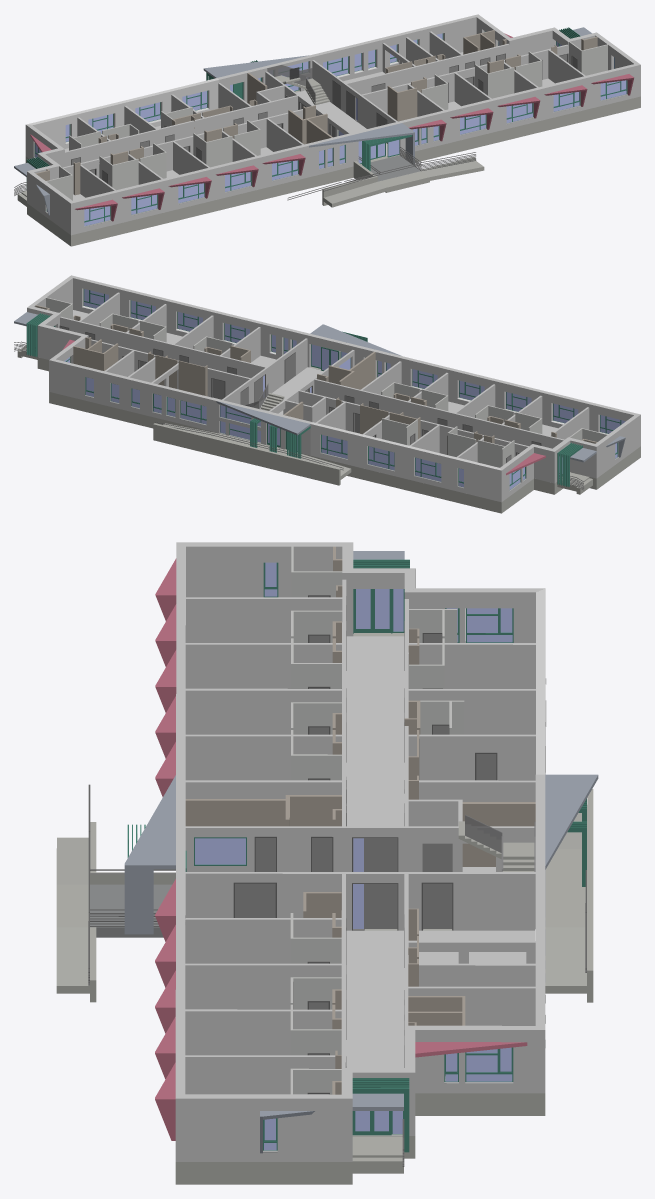
File: ground_o2.glb
3 renders of one model, top to bottom at view 1: azimuth 30°, elevation 25°; view 2: azimuth 150°, elevation 25°; view 3: azimuth 270°, elevation 25°, orthographic. The views are drawn at different scales.
Parts seen in each view (by area): view 1: IfcSlab/ARPP-01, IfcRamp/ARKATUS - 001, IfcWallStandardCase/ARSS-04, IfcWindow/ARA, IfcWallStandardCase/ARSS-02, IfcBeam/ARTALA - 001, IfcWallStandardCase/ARVS-01.011, IfcRoof/ARKATUS - 002.001, IfcSlab/ARPÕRAND - 013, IfcRailing/Väliskäsipuu, IfcDoor/ARUKS - 012, IfcSlab/ARPÕRAND - 001 (+1 smaller); view 2: IfcSlab/ARPP-01, IfcRamp/ARKATUS - 001, IfcWindow/ARA, IfcWallStandardCase/ARSS-02, IfcWallStandardCase/ARSS-04, IfcWallStandardCase/ARVS-01.011, IfcBeam/ARTALA - 001, IfcSlab/ARPÕRAND - 013, IfcDoor/ARUKS - 012, IfcRailing/Väliskäsipuu; view 3: IfcSlab/ARPP-01, IfcRamp/ARKATUS - 001, IfcWallStandardCase/ARSS-04, IfcWallStandardCase/ARSS-02, IfcDoor/ARUKS - 012, IfcSlab/ARPÕRAND - 013, IfcWindow/ARA, IfcRoof/ARKATUS - 002.001, IfcBeam/ARTALA - 001, IfcRailing/Väliskäsipuu, IfcSlab/ARPÕRAND - 001, IfcWallStandardCase/ARVS-01.011 (+1 smaller).
Boxes of the visible parts, <box> form: IfcSlab/ARPP-01: <box>25,14,640,235</box>; IfcRamp/ARKATUS - 001: <box>17,75,640,246</box>; IfcWallStandardCase/ARSS-04: <box>46,41,607,200</box>; IfcWindow/ARA: <box>33,33,627,227</box>; IfcWallStandardCase/ARSS-02: <box>35,30,597,195</box>; IfcBeam/ARTALA - 001: <box>26,27,627,222</box>; IfcWallStandardCase/ARVS-01.011: <box>26,78,219,148</box>; IfcRoof/ARKATUS - 002.001: <box>30,33,634,221</box>; IfcSlab/ARPÕRAND - 013: <box>14,27,591,215</box>; IfcRailing/Väliskäsipuu: <box>14,53,577,200</box>; IfcDoor/ARUKS - 012: <box>71,54,576,183</box>; IfcSlab/ARPÕRAND - 001: <box>370,155,420,181</box>; IfcSlab/ARPP-01: <box>27,275,640,501</box>; IfcRamp/ARKATUS - 001: <box>17,345,640,513</box>; IfcWindow/ARA: <box>64,289,625,491</box>; IfcWallStandardCase/ARSS-02: <box>35,305,597,443</box>; IfcWallStandardCase/ARSS-04: <box>46,297,607,467</box>; IfcWallStandardCase/ARVS-01.011: <box>310,422,501,502</box>; IfcBeam/ARTALA - 001: <box>26,289,621,488</box>; IfcSlab/ARPÕRAND - 013: <box>14,312,625,462</box>; IfcDoor/ARUKS - 012: <box>60,326,540,462</box>; IfcRailing/Väliskäsipuu: <box>14,325,583,490</box>; IfcSlab/ARPP-01: <box>175,542,545,1161</box>; IfcRamp/ARKATUS - 001: <box>56,633,593,1184</box>; IfcWallStandardCase/ARSS-04: <box>290,546,464,1094</box>; IfcWallStandardCase/ARSS-02: <box>185,546,535,1094</box>; IfcDoor/ARUKS - 012: <box>235,596,496,1094</box>; IfcSlab/ARPÕRAND - 013: <box>124,551,598,1153</box>; IfcWindow/ARA: <box>195,562,546,1152</box>; IfcRoof/ARKATUS - 002.001: <box>155,558,527,1140</box>; IfcBeam/ARTALA - 001: <box>127,559,586,1152</box>; IfcRailing/Väliskäsipuu: <box>88,595,586,1166</box>; IfcSlab/ARPÕRAND - 001: <box>90,884,171,937</box>; IfcWallStandardCase/ARVS-01.011: <box>536,588,545,774</box>.
Size of the model in its own units: 64.42 by 6.22 by 25.98.
